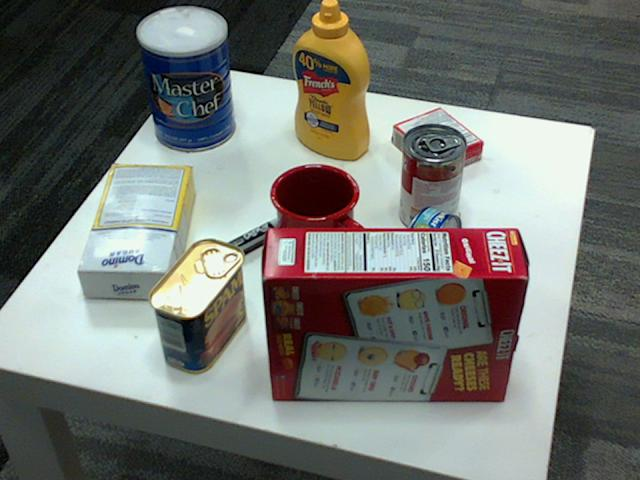cracker_box: (261, 225, 526, 398)
gelatin_box: (393, 107, 484, 176)
large_marker: (202, 209, 299, 273)
master_chef_can: (135, 7, 233, 151)
mug: (269, 160, 367, 269)
mustard_bottle: (292, 0, 368, 160)
potted_meat_can: (149, 238, 245, 373)
sugar_box: (77, 161, 194, 295)
tomato_soup_can: (398, 124, 464, 233)
tuna_fish_can: (395, 206, 461, 294)
